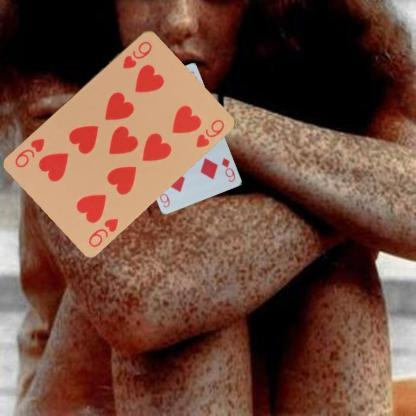6d: (218, 154, 236, 184)
9h: (86, 214, 120, 248), (119, 37, 154, 70)
